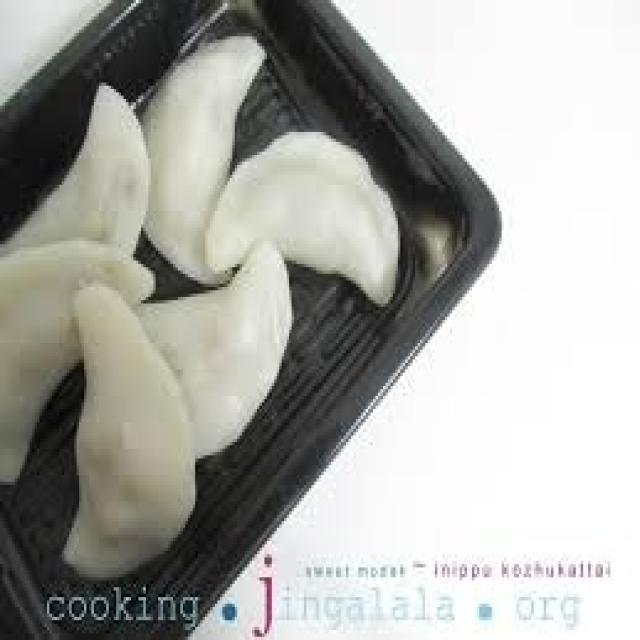poorna kolukattai: (0, 13, 442, 587)
